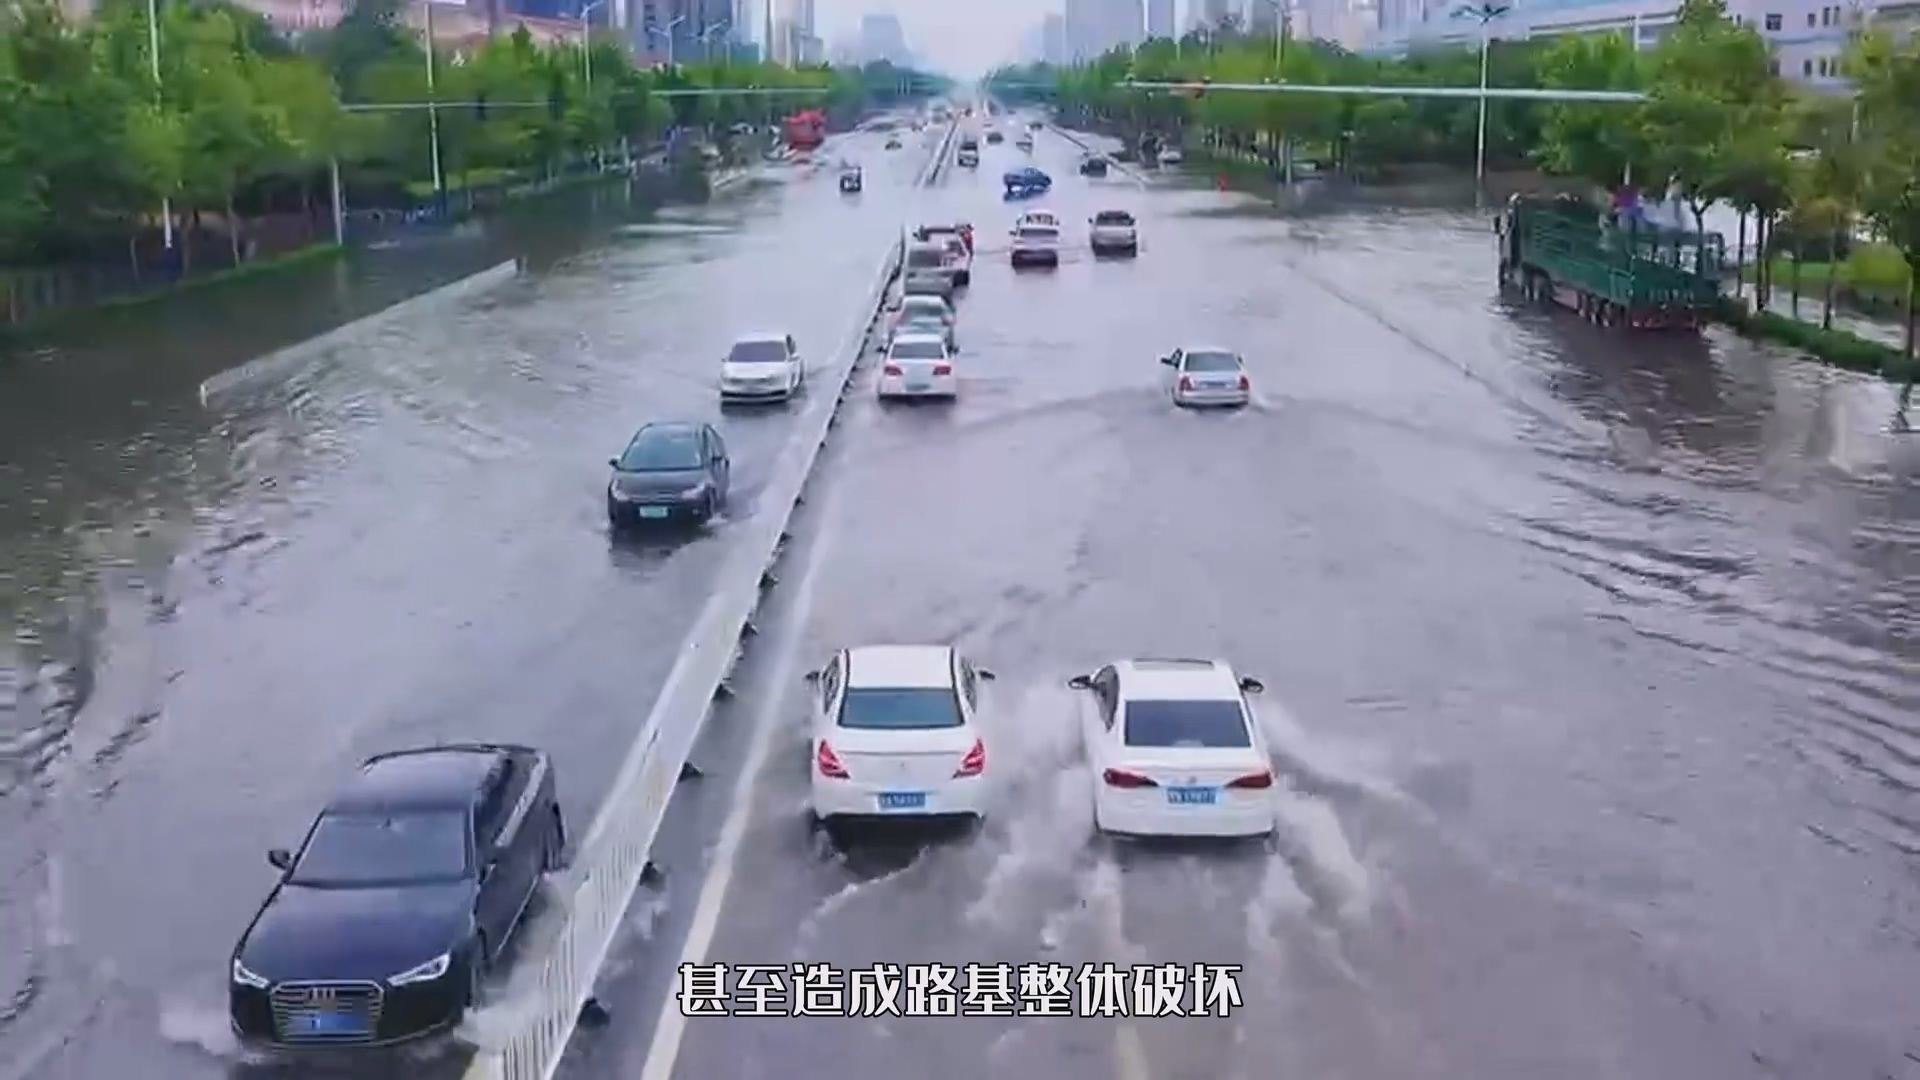puddle: (1, 298, 1920, 1080)
